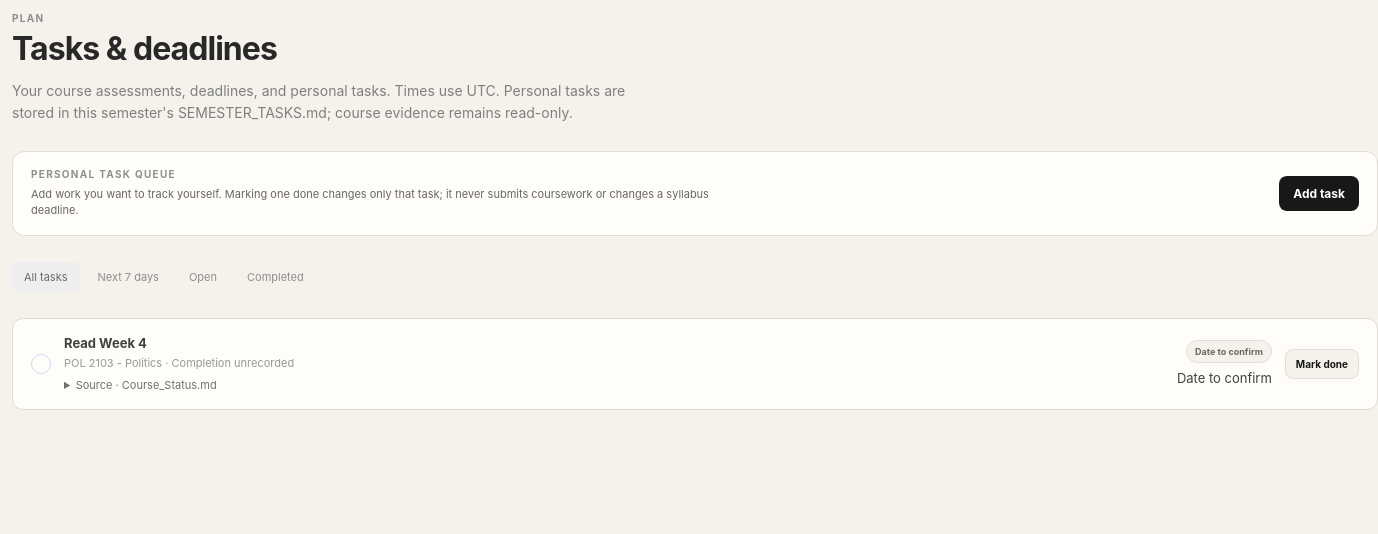
Test: Tasks › keeps derived course tasks on the coursework-history path
Click the button "Mark done" at (1322, 364), box [1285,349,1359,379]
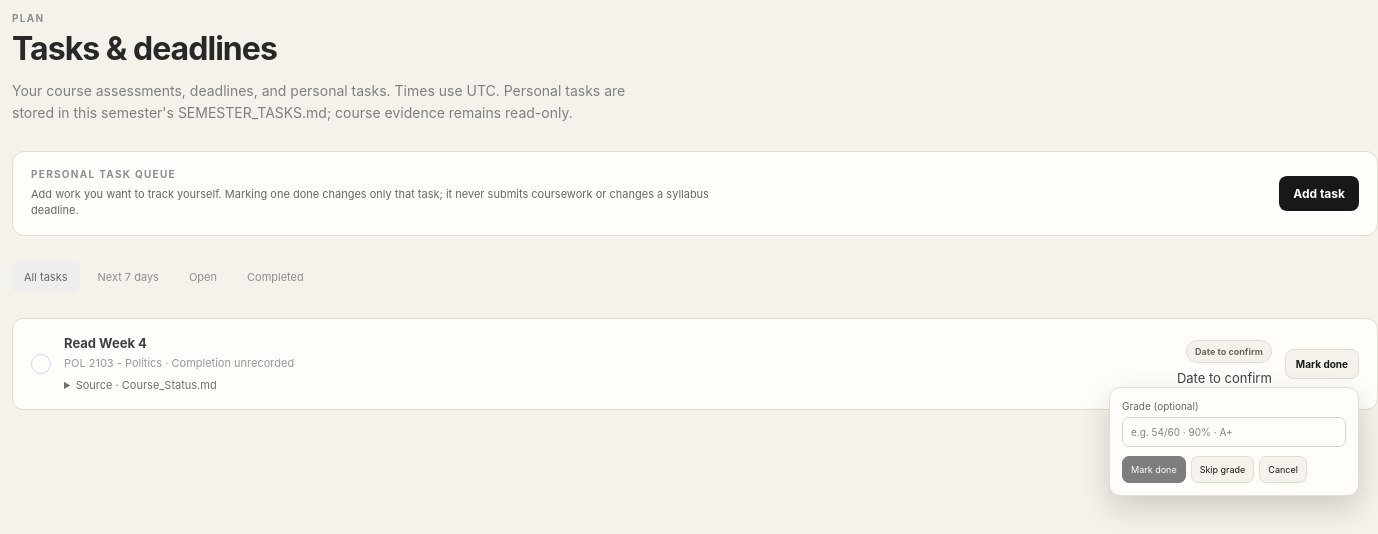
Now the button "Skip grade" is shown, box [1191,456,1254,483]
